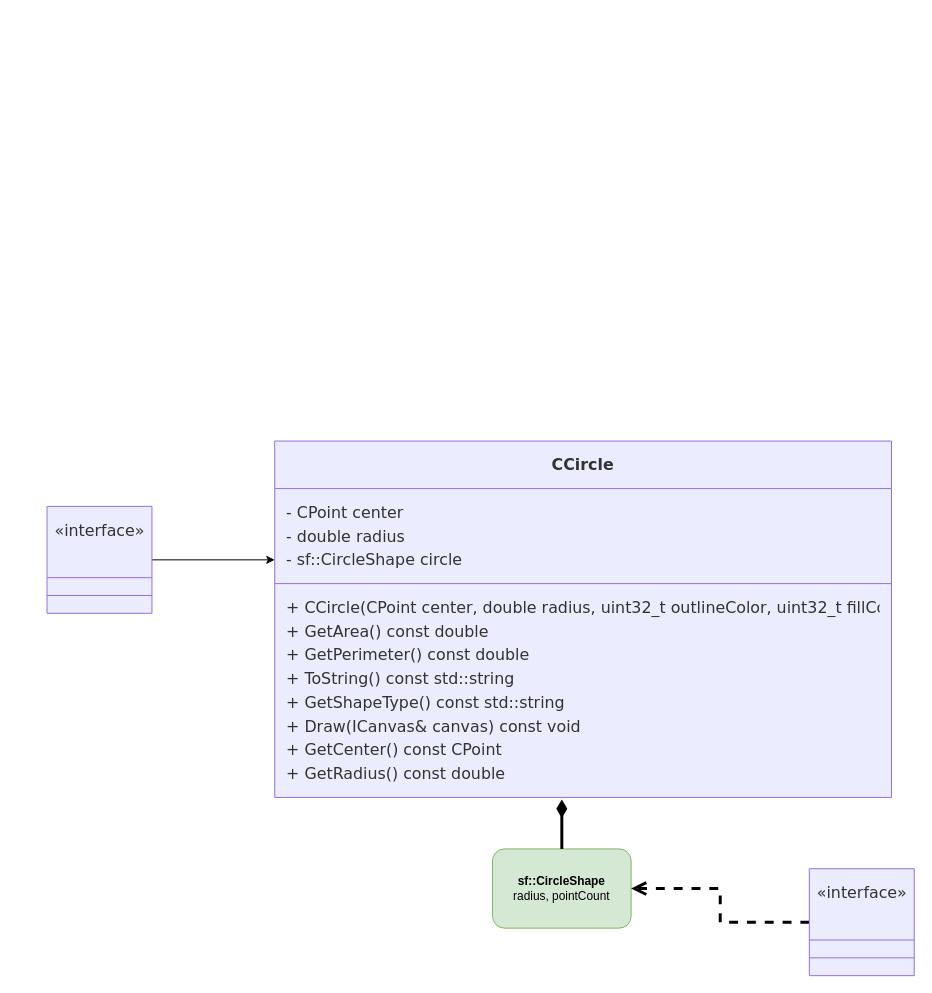
Image size: 932x993. Some labels were removed from this diagram. Each missing label, with the box of its shape:
ICanvas: (808, 868, 914, 976)
IShape: (46, 505, 152, 613)
